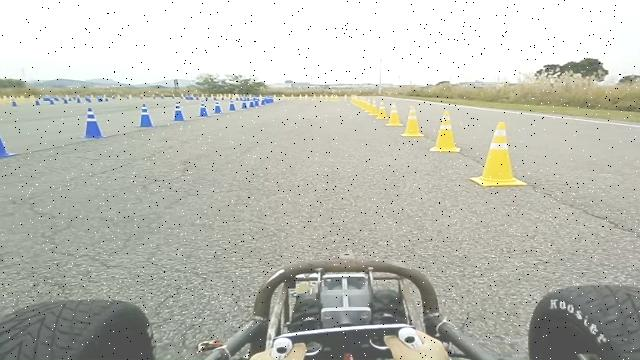blue cone: (77, 107, 108, 139), (0, 119, 19, 158), (135, 102, 155, 127), (172, 101, 185, 121), (197, 101, 209, 117), (212, 99, 222, 114), (228, 99, 236, 111), (240, 101, 247, 109)
yellow cone: (469, 121, 527, 187), (429, 110, 460, 152), (400, 105, 424, 137), (384, 101, 404, 126), (375, 99, 387, 119), (367, 100, 379, 115)
